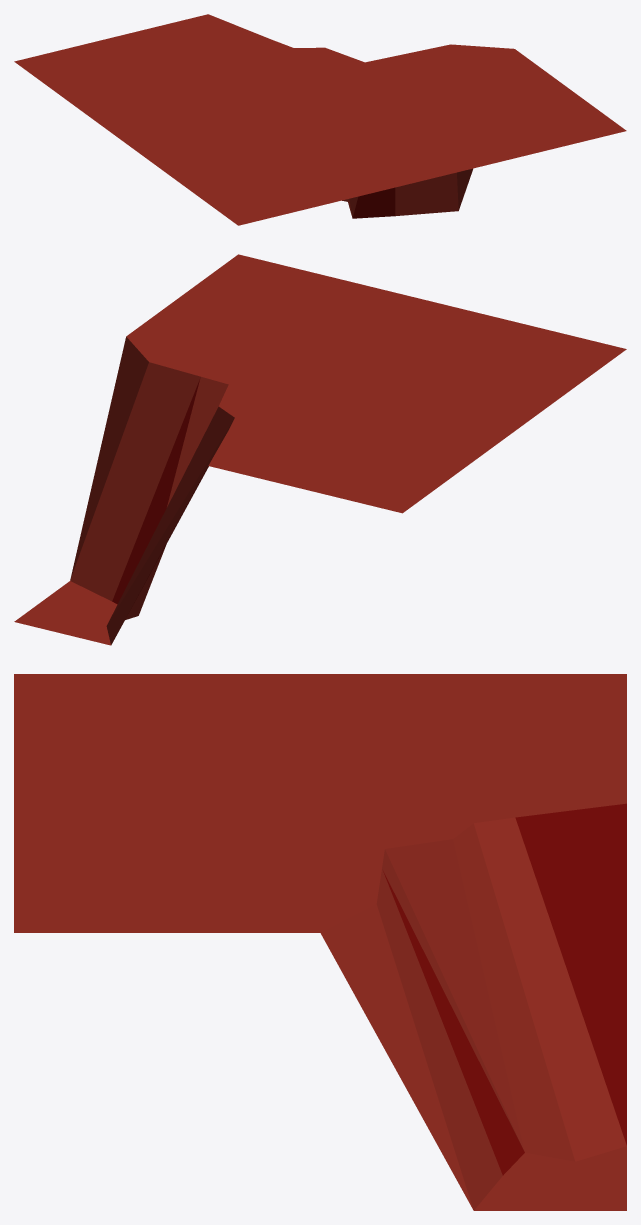
File: Border_5.fbx
3 views of the same model, one above another, from view 1: azimuth 30°, elevation 25°; view 2: azimuth 150°, elevation 25°; view 3: azimuth 270°, elevation 25° (orthographic). The views are drawn at different scales.
Visible parts, largest first — view 1: Plane.042; view 2: Plane.042; view 3: Plane.042.
Boxes of the visible parts, x1,y1,x2,y2 form: Plane.042: (14,14,626,225); Plane.042: (14,254,626,645); Plane.042: (14,674,626,1210).
Bounding box in the file's own units: 200 × 100 × 200.
